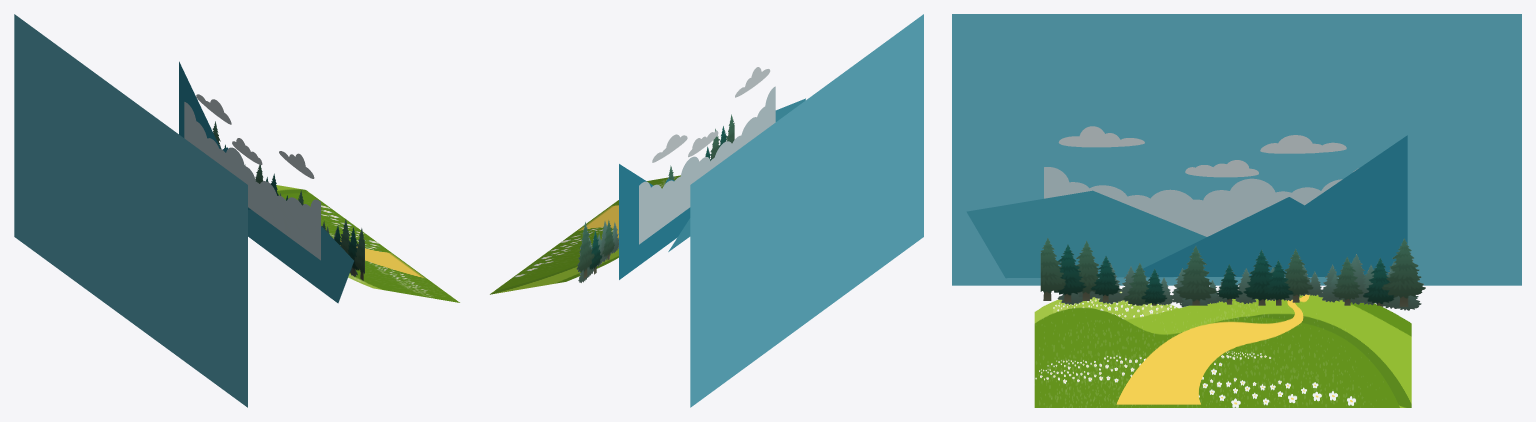
3 renders of one model, left to right at view 1: azimuth 30°, elevation 25°; view 2: azimuth 150°, elevation 25°; view 3: azimuth 270°, elevation 25°, orthographic. The views are drawn at different scales.
Parts seen in each view (by area): view 1: 平面.014, 台中燈會互動電視水果人_貼圖_20251230-03.011, 平面.013, 平面.015, 台中燈會互動電視水果人_貼圖_20251230-03.012, 平面.016; view 2: 平面.014, 台中燈會互動電視水果人_貼圖_20251230-03.011, 平面.013, 平面.016, 台中燈會互動電視水果人_貼圖_20251230-03.012, 平面.015; view 3: 平面.014, 平面.013, 平面.016, 台中燈會互動電視水果人_貼圖_20251230-03.012, 平面.015, 台中燈會互動電視水果人_貼圖_20251230-03.011, 台中燈會互動電視水果人_貼圖_20251230-03.002, 台中燈會互動電視水果人_貼圖_20251230-03.009, 台中燈會互動電視水果人_貼圖_20251230-03.008.
Part boxes in pixels (x1,y1,x2,y2): 平面.014: (14, 14, 247, 407); 台中燈會互動電視水果人_貼圖_20251230-03.011: (184, 102, 320, 260); 平面.013: (276, 185, 459, 302); 平面.015: (248, 210, 353, 303); 台中燈會互動電視水果人_貼圖_20251230-03.012: (212, 121, 364, 280); 平面.016: (179, 61, 251, 209); 平面.014: (690, 14, 923, 407); 台中燈會互動電視水果人_貼圖_20251230-03.011: (639, 86, 775, 244); 平面.013: (490, 175, 680, 294); 平面.016: (619, 164, 690, 279); 台中燈會互動電視水果人_貼圖_20251230-03.012: (576, 114, 734, 282); 平面.015: (668, 98, 805, 251); 平面.014: (952, 14, 1521, 285); 平面.013: (1034, 291, 1411, 407); 平面.016: (1134, 135, 1407, 277); 台中燈會互動電視水果人_貼圖_20251230-03.012: (1040, 238, 1425, 310); 平面.015: (966, 190, 1206, 278); 台中燈會互動電視水果人_貼圖_20251230-03.011: (1044, 167, 1358, 236); 台中燈會互動電視水果人_貼圖_20251230-03.002: (1058, 126, 1144, 147); 台中燈會互動電視水果人_貼圖_20251230-03.009: (1260, 135, 1346, 153); 台中燈會互動電視水果人_貼圖_20251230-03.008: (1185, 160, 1258, 177).
Size of the model in its own units: 650 by 562 by 1068.
1 material, 1 textured.
